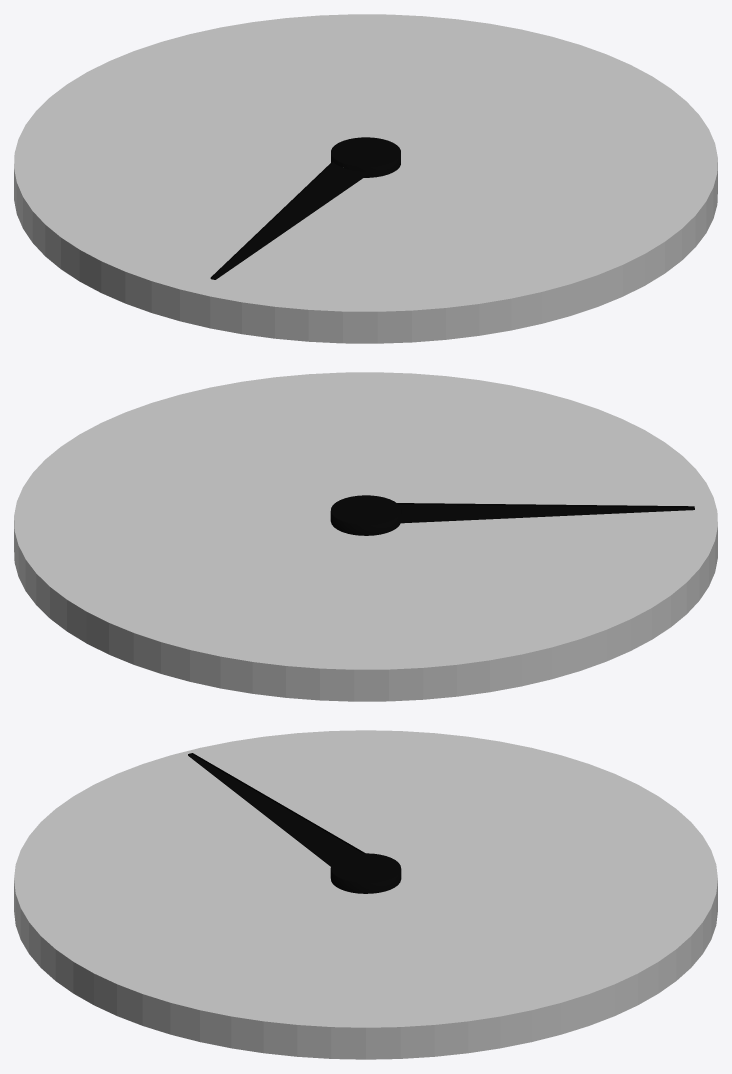
Rendered from AnalogMeter.fbx.
3 views of the same model, one above another, from view 1: azimuth 30°, elevation 25°; view 2: azimuth 150°, elevation 25°; view 3: azimuth 270°, elevation 25° (orthographic).
Parts seen in each view (by area): view 1: AnalogMeter.Base, AnalogMeter.Needle; view 2: AnalogMeter.Base, AnalogMeter.Needle; view 3: AnalogMeter.Base, AnalogMeter.Needle.
Boxes of the visible parts, x1,y1,x2,y2 form: AnalogMeter.Base: (14,14,717,343); AnalogMeter.Needle: (210,137,400,279); AnalogMeter.Base: (14,372,717,701); AnalogMeter.Needle: (330,495,694,535); AnalogMeter.Base: (14,730,717,1059); AnalogMeter.Needle: (188,753,401,893).
Bounding box in the file's own units: 2 × 0.1339 × 2.
